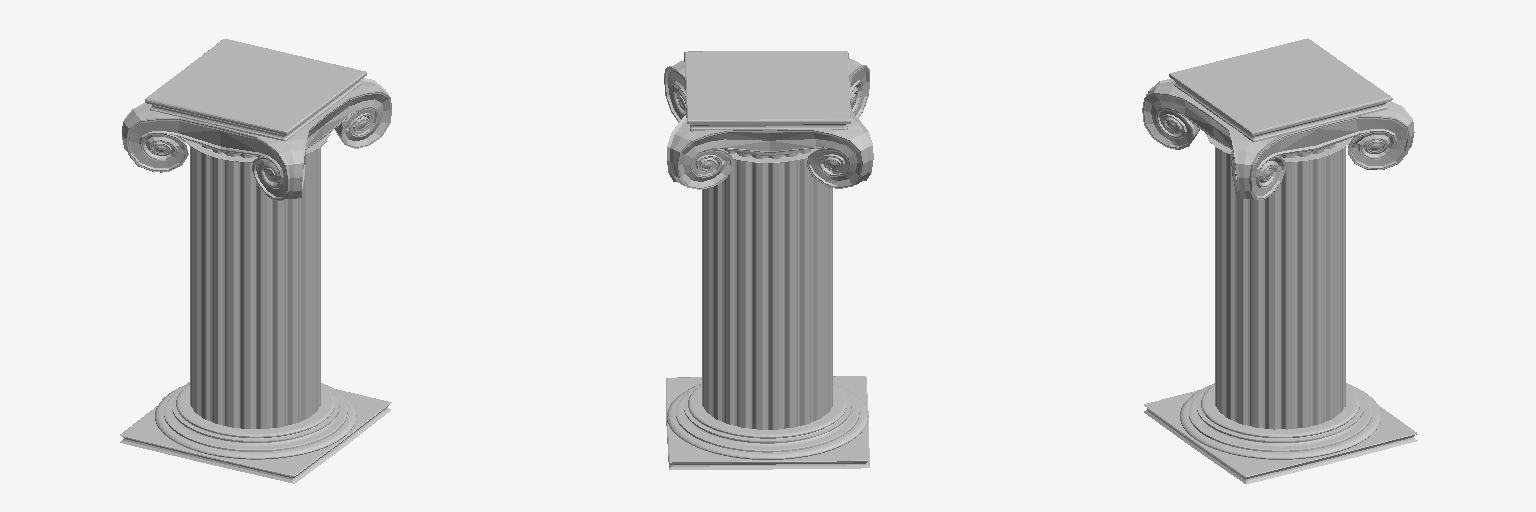
The model's file is Pillar.obj.
3 renders of one model, left to right at view 1: azimuth 30°, elevation 25°; view 2: azimuth 150°, elevation 25°; view 3: azimuth 270°, elevation 25°, orthographic.
Parts seen in each view (by area): view 1: ionic_cily_deco_2; view 2: ionic_cily_deco_2; view 3: ionic_cily_deco_2.
Part boxes in pixels (x1,y1,x2,y2): ionic_cily_deco_2: (120, 39, 391, 483); ionic_cily_deco_2: (664, 51, 873, 469); ionic_cily_deco_2: (1142, 38, 1417, 483).
Size of the model in its own units: 0.5673 by 0.7796 by 0.5698.